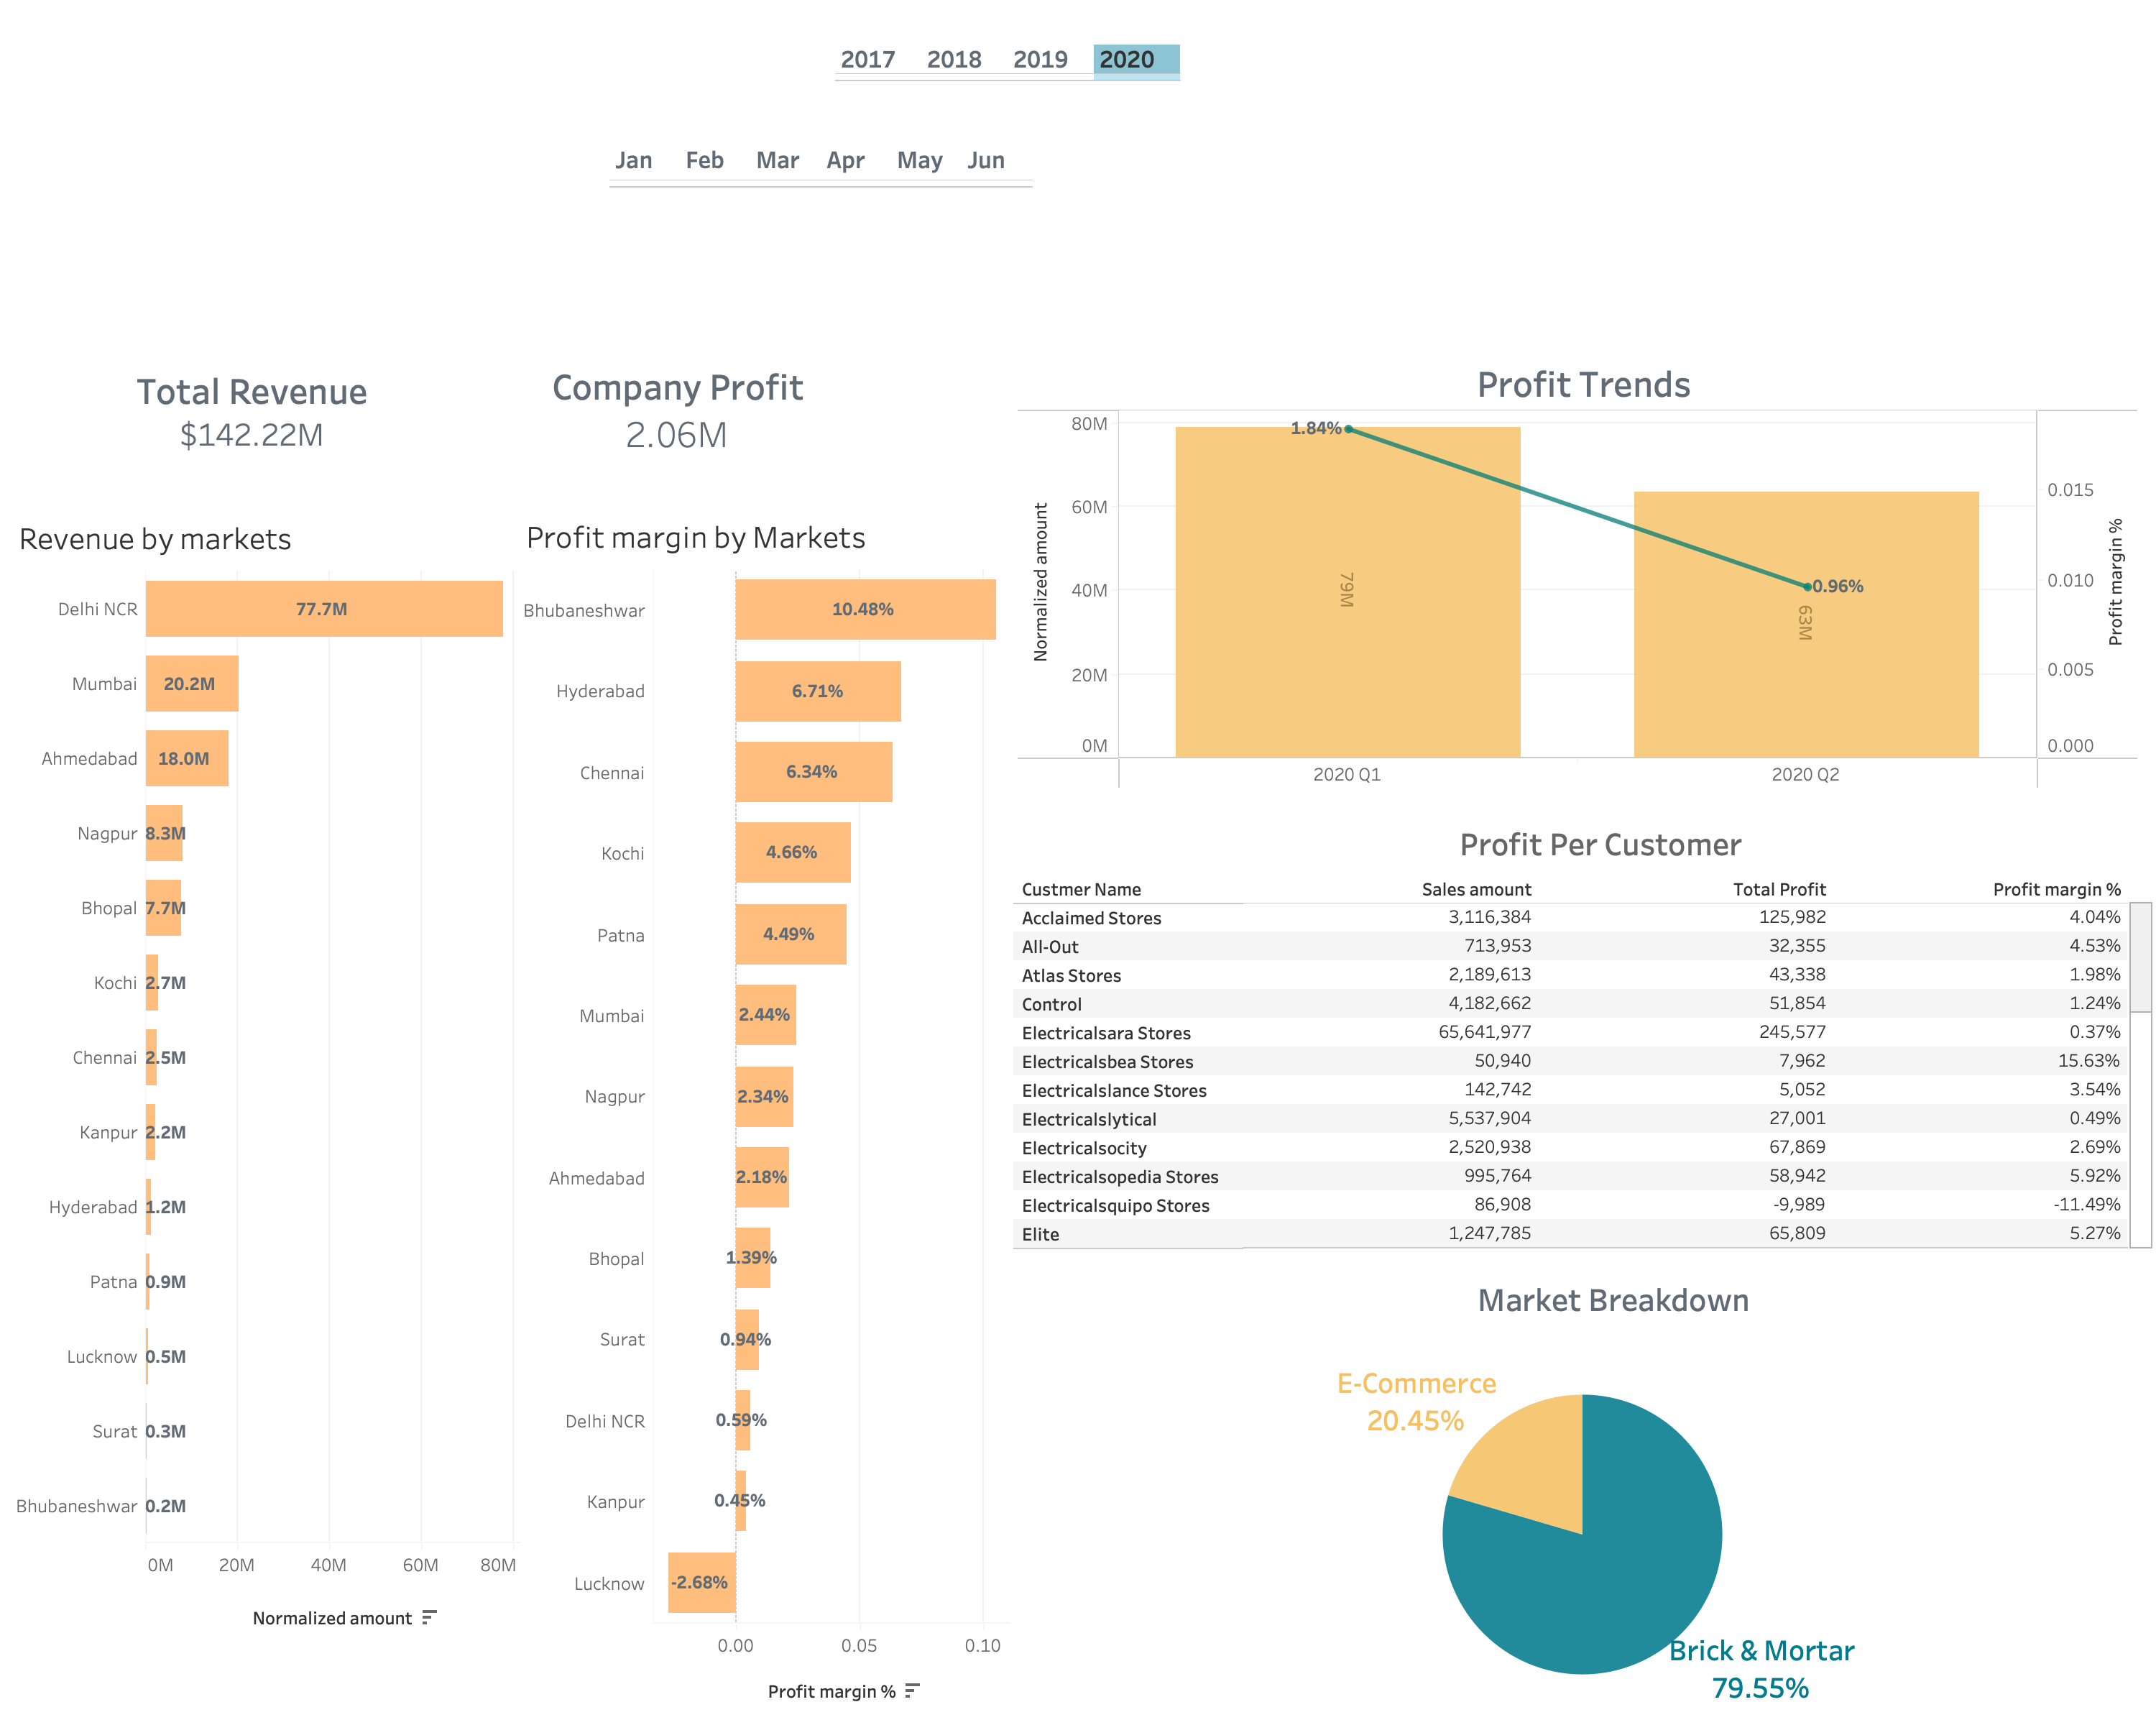

The page's visual inventory and layout, read from the dashboard file:
{"tool":"tableau","page":{"name":"Profit analysis","canvas":[1500,1200],"ordinal":0},"visuals":[{"type":"worksheet","title":"Year","mark":"Automatic","cols":["cy_date"],"box":[581,31,245,38]},{"type":"worksheet","title":"Month","mark":"Automatic","cols":["cy_date"],"box":[424,97,591,45]},{"type":"worksheet","title":"Revenue","mark":"Automatic","box":[86,240,181,92.4]},{"type":"text","box":[1025,251,159,30]},{"type":"worksheet","title":"Profit","mark":"Automatic","box":[372,252,208,67]},{"type":"worksheet","title":"Profit Trend","mark":"Bar","rows":["Calculation_762726865454276610","Calculation_1105633756247216128"],"cols":["cy_date"],"box":[708,285,780,264]},{"type":"worksheet","title":"Profit margin by Markets ","mark":"Automatic","rows":["markets_name"],"cols":["Calculation_1105633756247216128"],"box":[362,353,342,839]},{"type":"text","box":[1013,573,202,28]},{"type":"worksheet","title":"profit per customer","mark":"Automatic","rows":["custmer_name"],"box":[705,608,793,261]},{"type":"text","box":[1023,892,200,24]},{"type":"worksheet","title":"Brick n mortar vs e ccommerrce","mark":"Pie","box":[703,947,796,241]}]}

Visuals, with their boxes in screenshot pixels (x1, y1, x2, y2), scaled from the page's 1500x1200 canvas onto the 2156x1725 screenshot:
"Year" worksheet: region(835, 45, 1187, 99)
"Month" worksheet: region(609, 139, 1459, 204)
"Revenue" worksheet: region(124, 345, 384, 478)
text: region(1473, 361, 1702, 404)
"Profit" worksheet: region(535, 362, 834, 459)
"Profit Trend" worksheet (Bar marks): region(1018, 410, 2139, 789)
"Profit margin by Markets " worksheet: region(520, 507, 1012, 1713)
text: region(1456, 824, 1746, 864)
"profit per customer" worksheet: region(1013, 874, 2153, 1249)
text: region(1470, 1282, 1758, 1317)
"Brick n mortar vs e ccommerrce" worksheet (Pie marks): region(1010, 1361, 2155, 1708)
